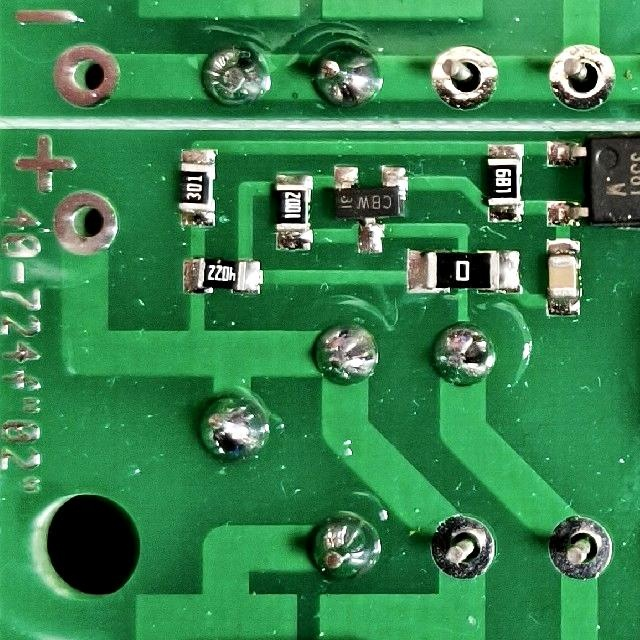chip-capacitor: (543, 234, 585, 319)
chip-resistor: (405, 245, 524, 297), (273, 169, 317, 257), (484, 139, 527, 226), (180, 255, 265, 299), (177, 145, 219, 231)
ic: (540, 133, 640, 231)
transistor: (330, 159, 414, 257)
